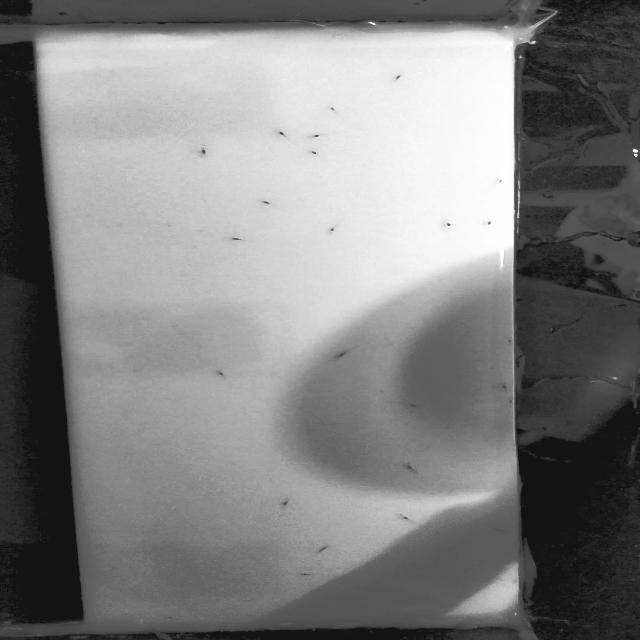shrimp: (402, 397, 428, 413), (223, 234, 251, 247), (333, 346, 355, 362), (160, 610, 182, 624), (387, 70, 408, 84), (318, 102, 339, 116), (210, 367, 234, 379), (314, 544, 334, 558), (275, 129, 294, 142), (300, 572, 319, 584), (404, 461, 421, 474), (278, 496, 295, 509), (397, 511, 414, 524), (439, 220, 457, 232), (497, 381, 513, 394), (327, 226, 344, 236), (312, 130, 326, 142), (194, 148, 210, 158), (482, 218, 498, 228), (256, 200, 275, 208), (309, 150, 324, 160)
